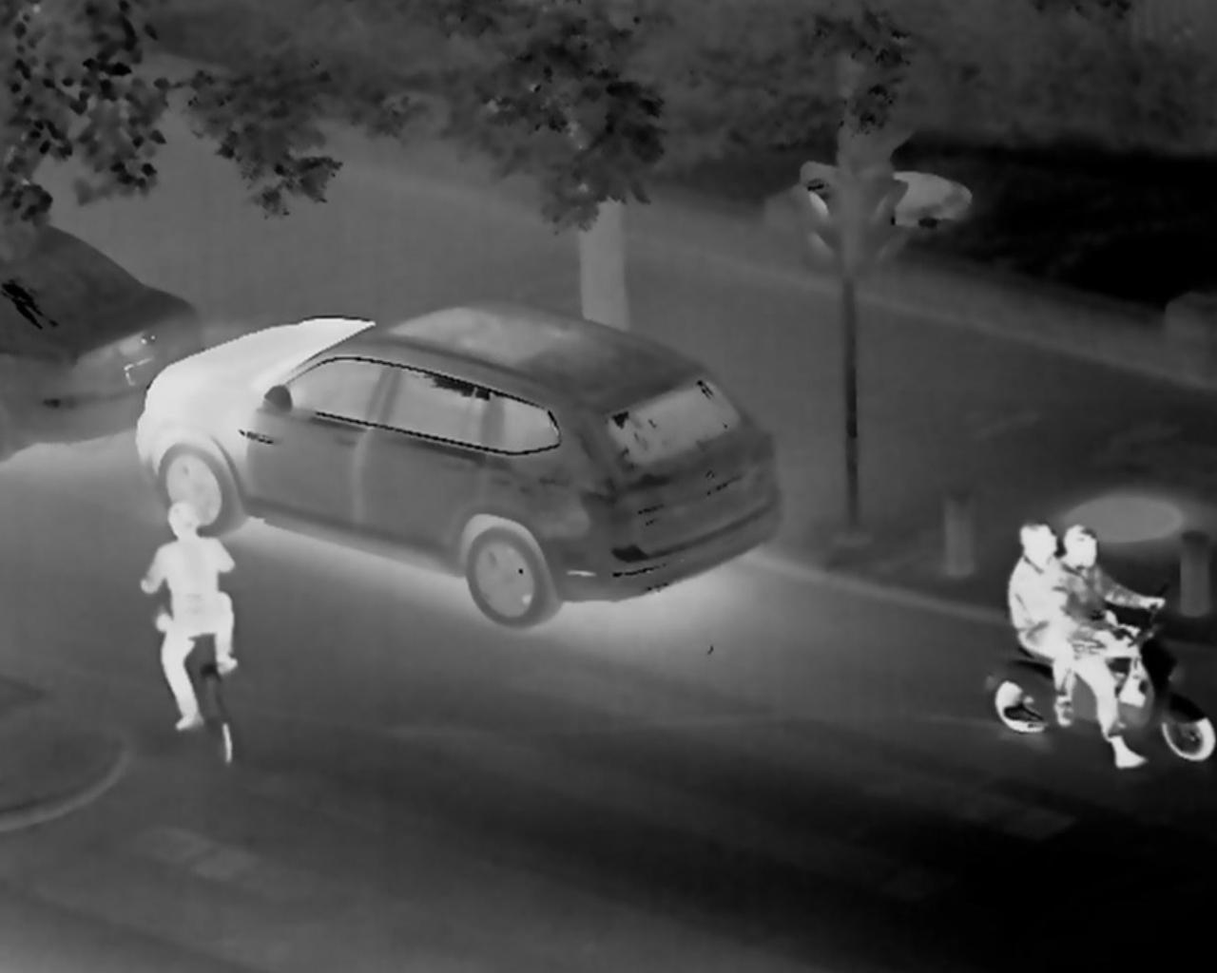person: (1041, 525, 1166, 774), (130, 498, 241, 731), (1002, 517, 1081, 730)
